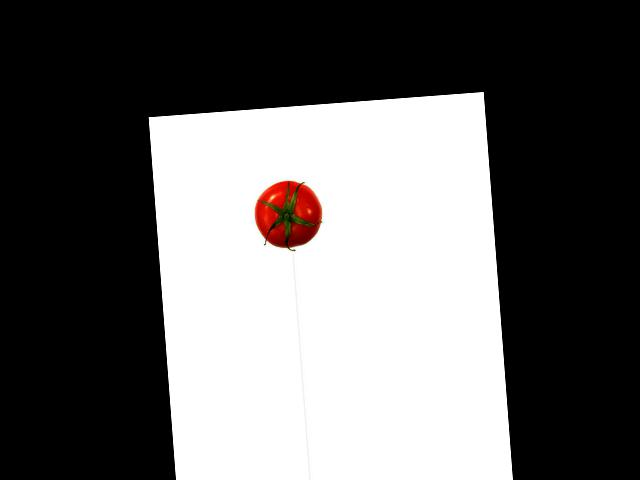tomato: (252, 177, 324, 249)
